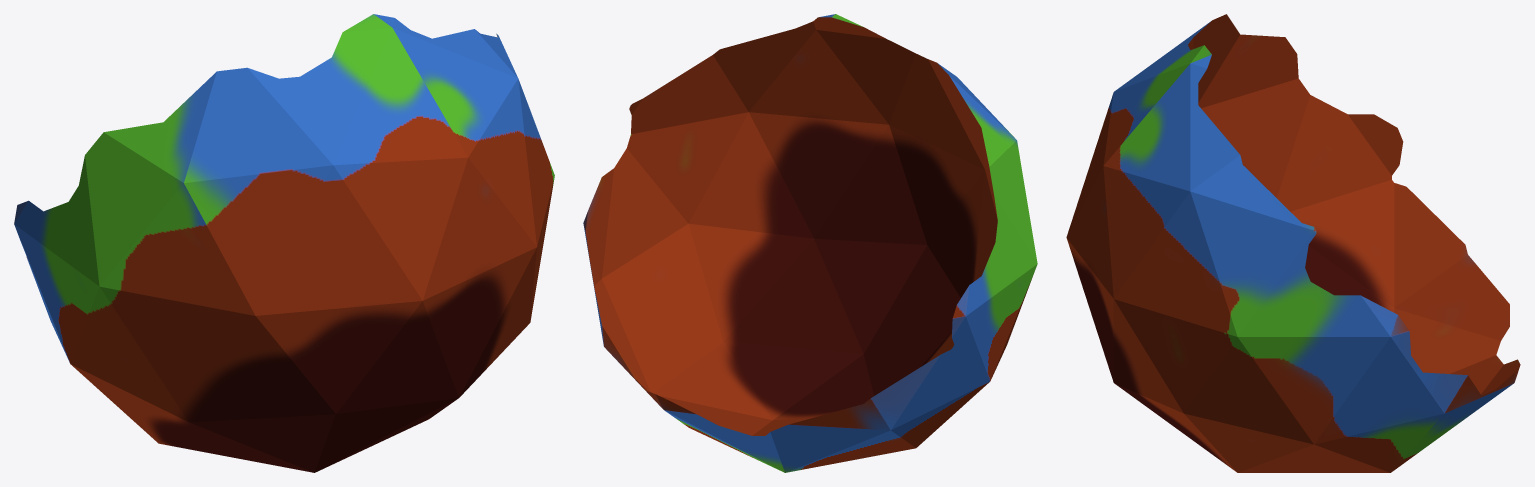
The model's file is brokenEarth.gltf.
3 renders of one model, left to right at view 1: azimuth 30°, elevation 25°; view 2: azimuth 150°, elevation 25°; view 3: azimuth 270°, elevation 25°, orthographic. The views are drawn at different scales.
Visible parts, largest first — view 1: ICO球; view 2: ICO球; view 3: ICO球.
Boxes of the visible parts, x1,y1,x2,y2 form: ICO球: (14, 14, 554, 472); ICO球: (583, 14, 1037, 472); ICO球: (1066, 14, 1520, 472).
Bounding box in the file's own units: 1.9 × 1.88 × 1.83.
1 material, 1 textured.
